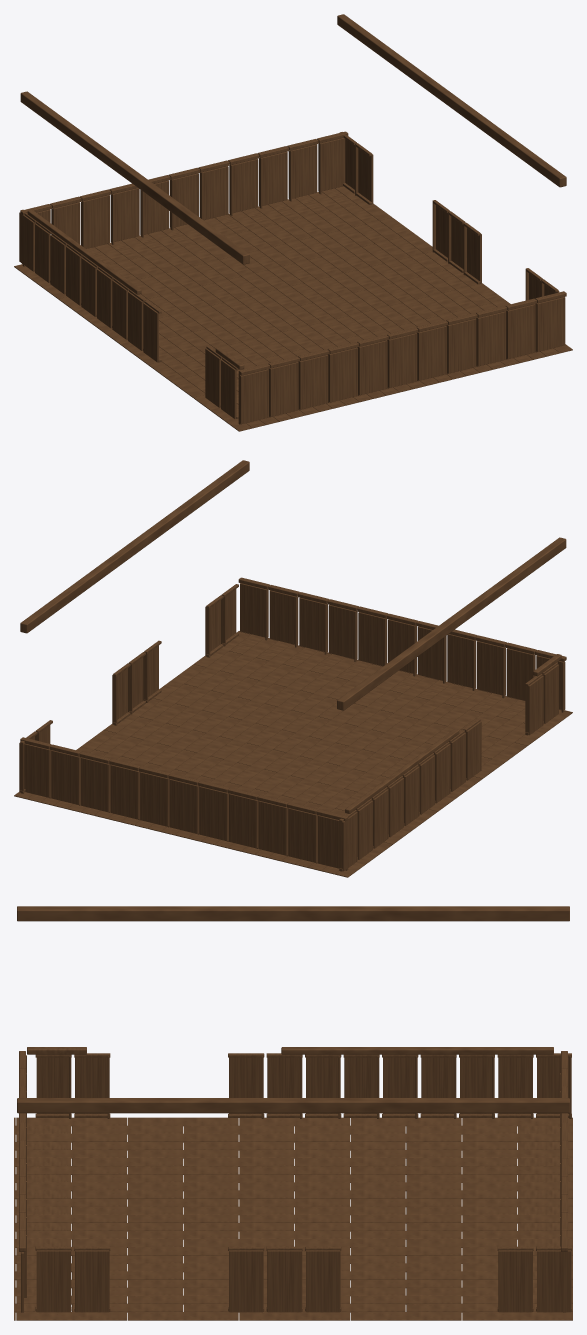
Rendered from stash-room-detail.glb.
The picture shows the model from 3 angles, top to bottom: view 1: azimuth 30°, elevation 25°; view 2: azimuth 150°, elevation 25°; view 3: azimuth 270°, elevation 25°; orthographic projection. The views are drawn at different scales.
Visible parts, largest first — view 1: StashDetail_walnut; view 2: StashDetail_walnut; view 3: StashDetail_walnut.
Part boxes in pixels (<box>): StashDetail_walnut: <box>14,14,572,431</box>; StashDetail_walnut: <box>14,460,572,877</box>; StashDetail_walnut: <box>14,906,572,1320</box>.
Bounding box in the file's own units: 5.97 × 2.97 × 6.97.
1 material, 1 textured.
